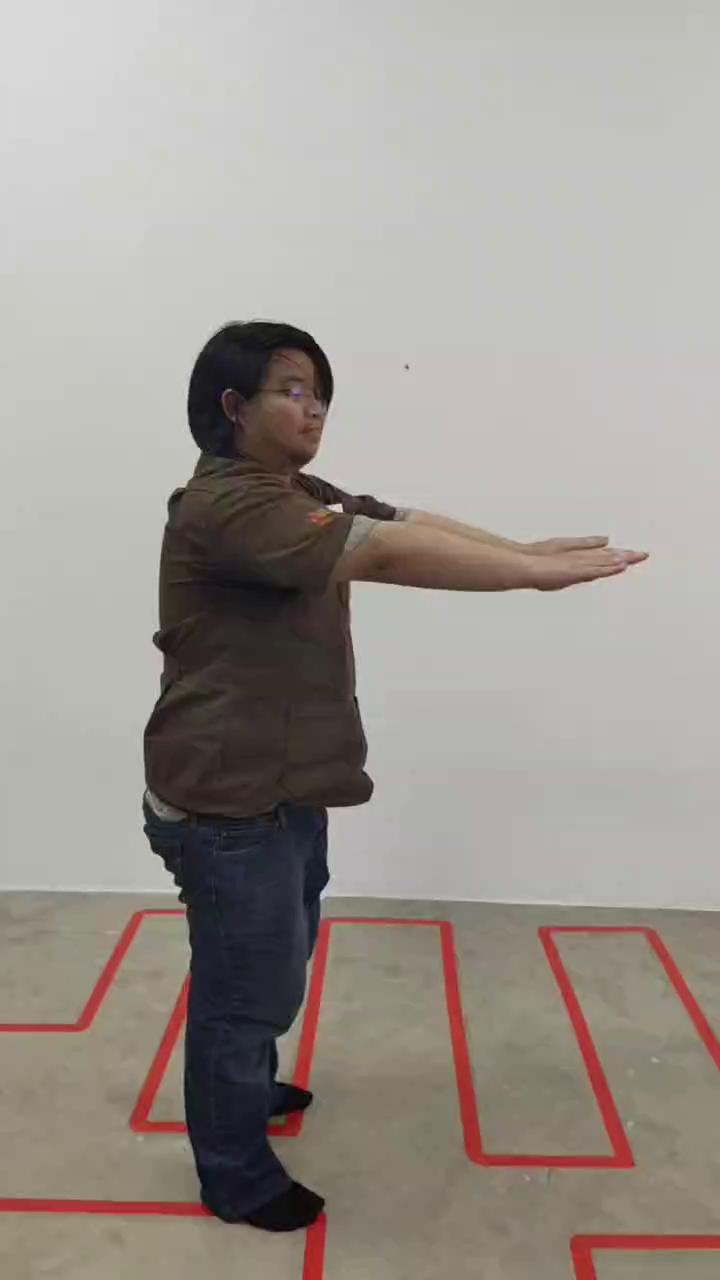squat up: (142, 319, 640, 1238), (142, 319, 639, 1238)
